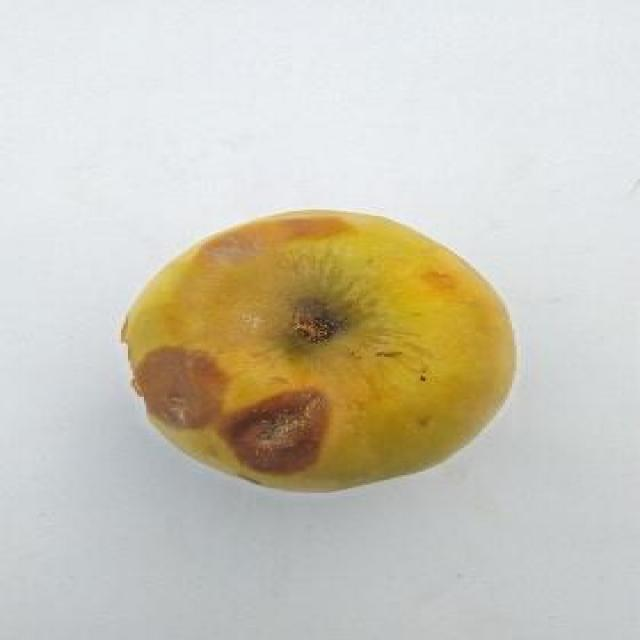Banana: (117, 208, 515, 488)
